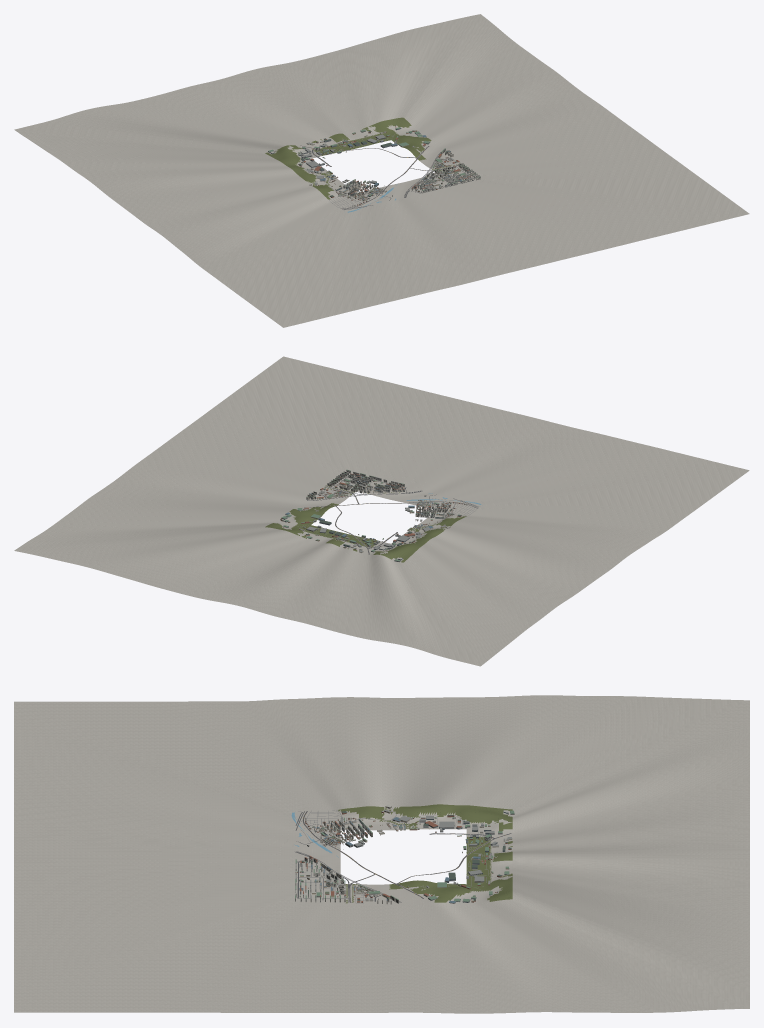
The picture shows the model from 3 angles, top to bottom: view 1: azimuth 30°, elevation 25°; view 2: azimuth 150°, elevation 25°; view 3: azimuth 270°, elevation 25°; orthographic projection. The views are drawn at different scales.
Parts seen in each view (by area): view 1: ctx-ground, ctx-buildings, ctx-roads; view 2: ctx-ground, ctx-buildings, ctx-roads; view 3: ctx-ground, ctx-buildings, ctx-roads, ctx-streets.
Boxes of the visible parts, x1=… form: ctx-ground: x1=14, y1=14, x2=749, y2=327; ctx-buildings: x1=268, y1=127, x2=480, y2=198; ctx-roads: x1=300, y1=145, x2=474, y2=209; ctx-ground: x1=14, y1=356, x2=749, y2=666; ctx-buildings: x1=281, y1=469, x2=461, y2=561; ctx-roads: x1=304, y1=475, x2=478, y2=554; ctx-ground: x1=14, y1=695, x2=749, y2=1013; ctx-buildings: x1=295, y1=805, x2=514, y2=904; ctx-roads: x1=295, y1=811, x2=511, y2=902; ctx-streets: x1=295, y1=808, x2=508, y2=903.
Size of the model in its own units: 8000 by 91.23 by 8000.
Materials: 18 (15 with a texture image).
